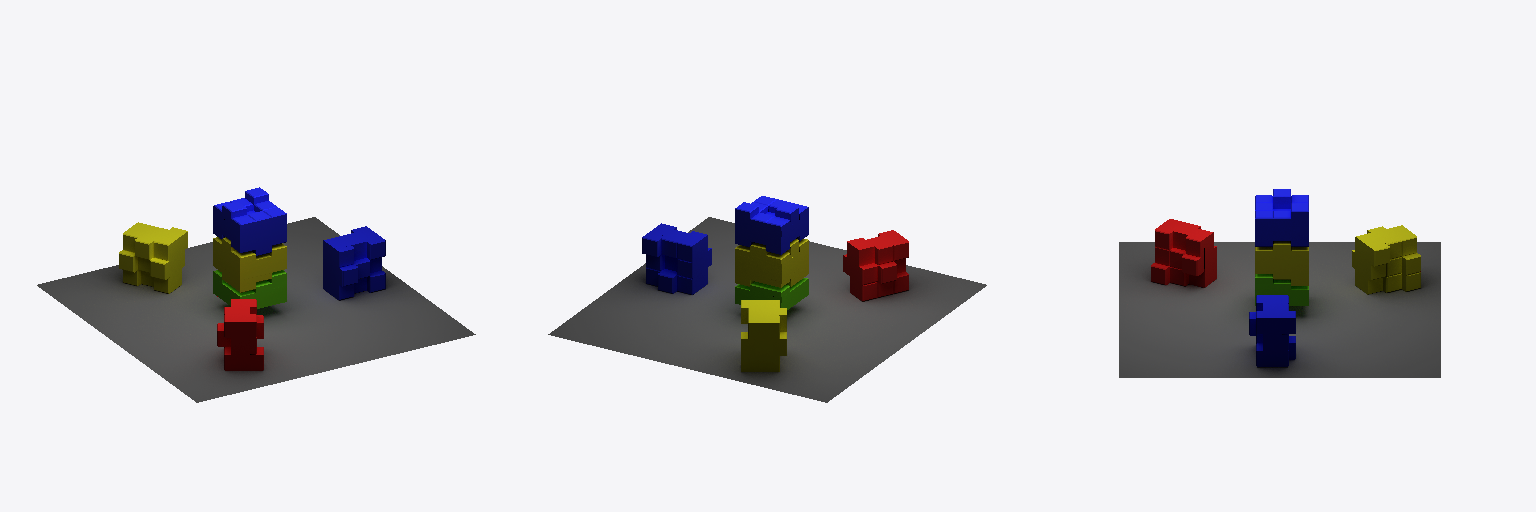
3 views of the same model, side by side, from view 1: azimuth 30°, elevation 25°; view 2: azimuth 150°, elevation 25°; view 3: azimuth 270°, elevation 25° (orthographic).
Visible parts, largest first — view 1: object_7.004; view 2: object_7.004; view 3: object_7.004.
Part boxes in pixels (x1,y1,x2,y2): object_7.004: (37,187,475,402); object_7.004: (548,196,986,402); object_7.004: (1119,189,1440,377).
Bounding box in the file's own units: 89.3 × 32.96 × 89.3.
2 materials, 2 textured.